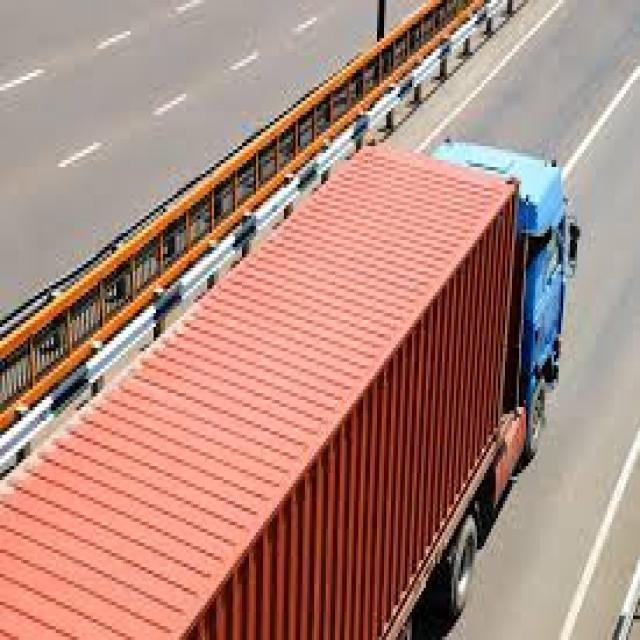covered: (2, 140, 570, 640)
